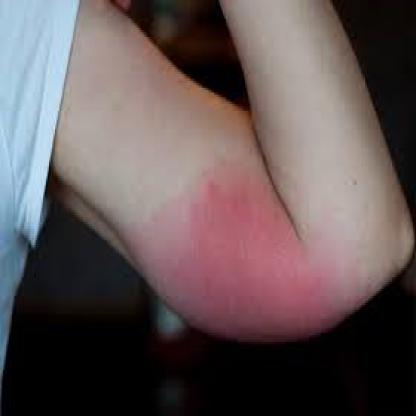Wasp: (166, 176, 333, 340)
